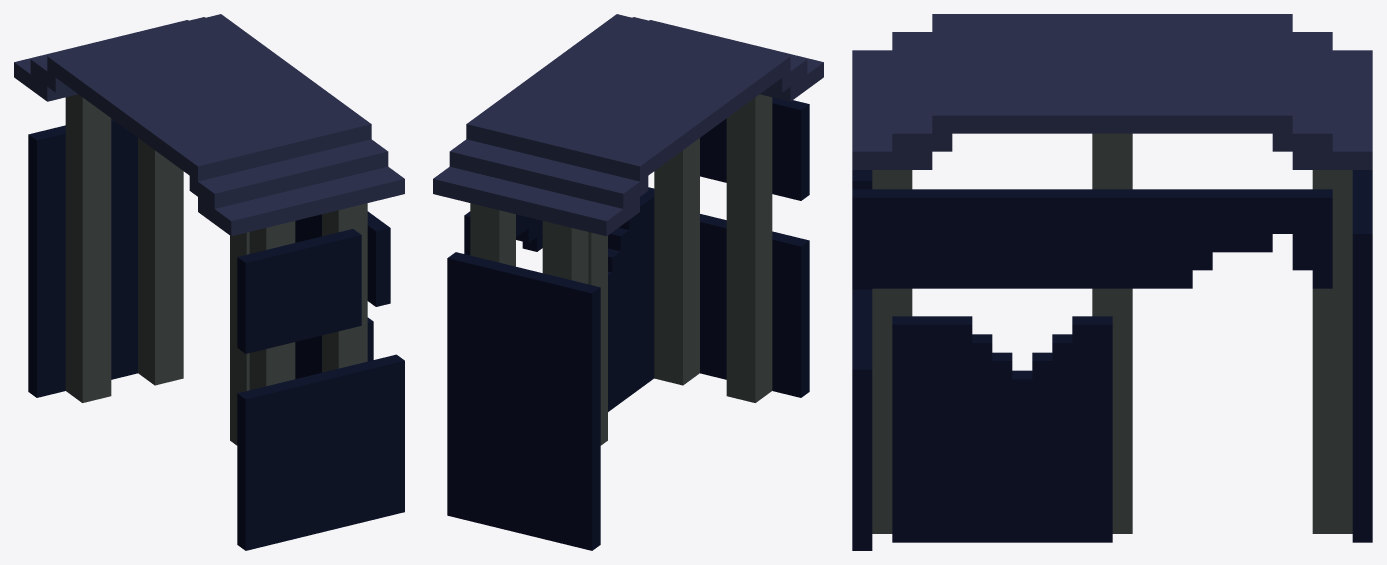
Rendered from daszek_wejsciow_2.dae.
The picture shows the model from 3 angles, left to right: view 1: azimuth 30°, elevation 25°; view 2: azimuth 150°, elevation 25°; view 3: azimuth 270°, elevation 25°; orthographic projection. The views are drawn at different scales.
Visible parts, largest first — view 1: Content; view 2: Content; view 3: Content.
Part boxes in pixels (x1,y1,x2,y2): Content: (14, 14, 404, 550); Content: (433, 14, 823, 550); Content: (852, 14, 1372, 550).
Size of the model in its own units: 12 by 24 by 26.
1 material, 1 textured.
